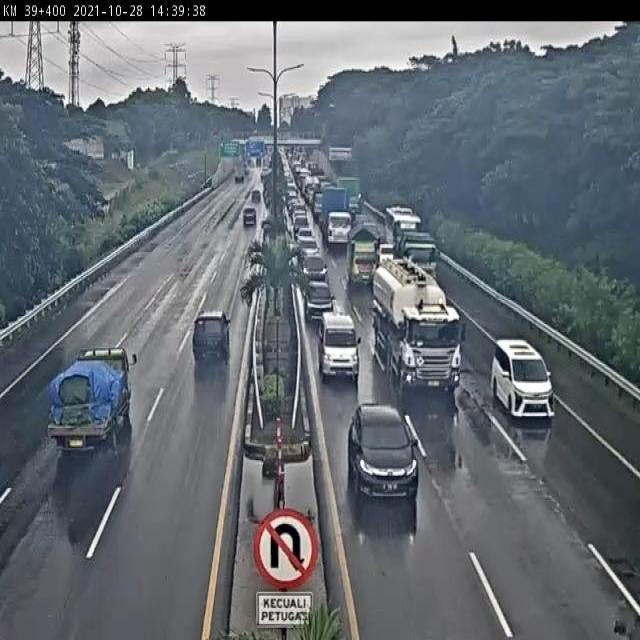big truck: (360, 248, 443, 363)
car: (344, 408, 406, 504), (184, 302, 253, 369), (511, 343, 563, 417), (318, 297, 352, 353), (304, 274, 330, 310), (301, 247, 325, 270), (240, 203, 259, 232), (245, 183, 265, 209), (299, 217, 315, 244)
small truck: (29, 328, 144, 508), (343, 223, 371, 272)
